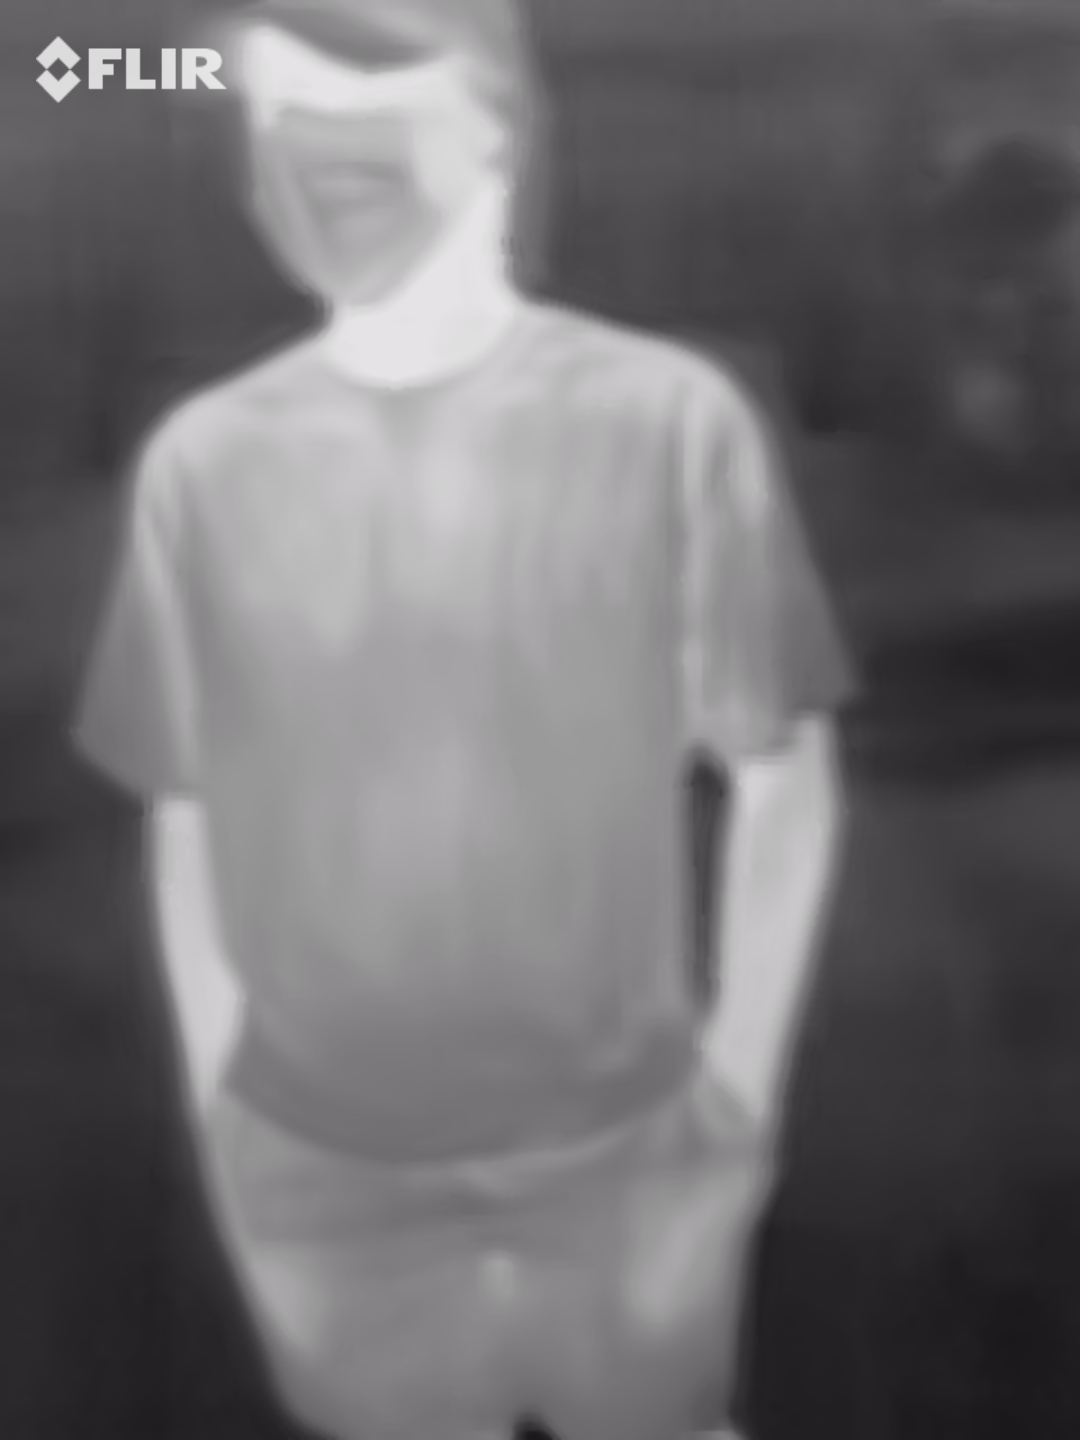head: (233, 1, 549, 312)
